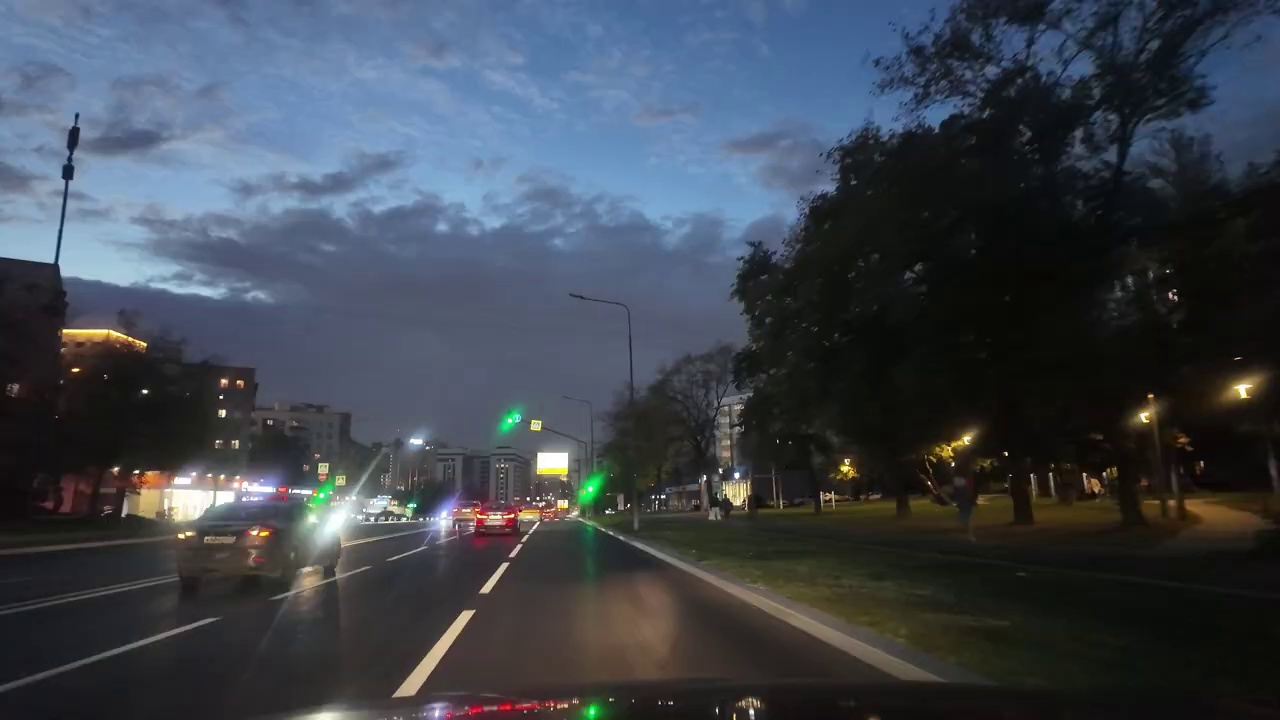apagada: (559, 284, 609, 315)
